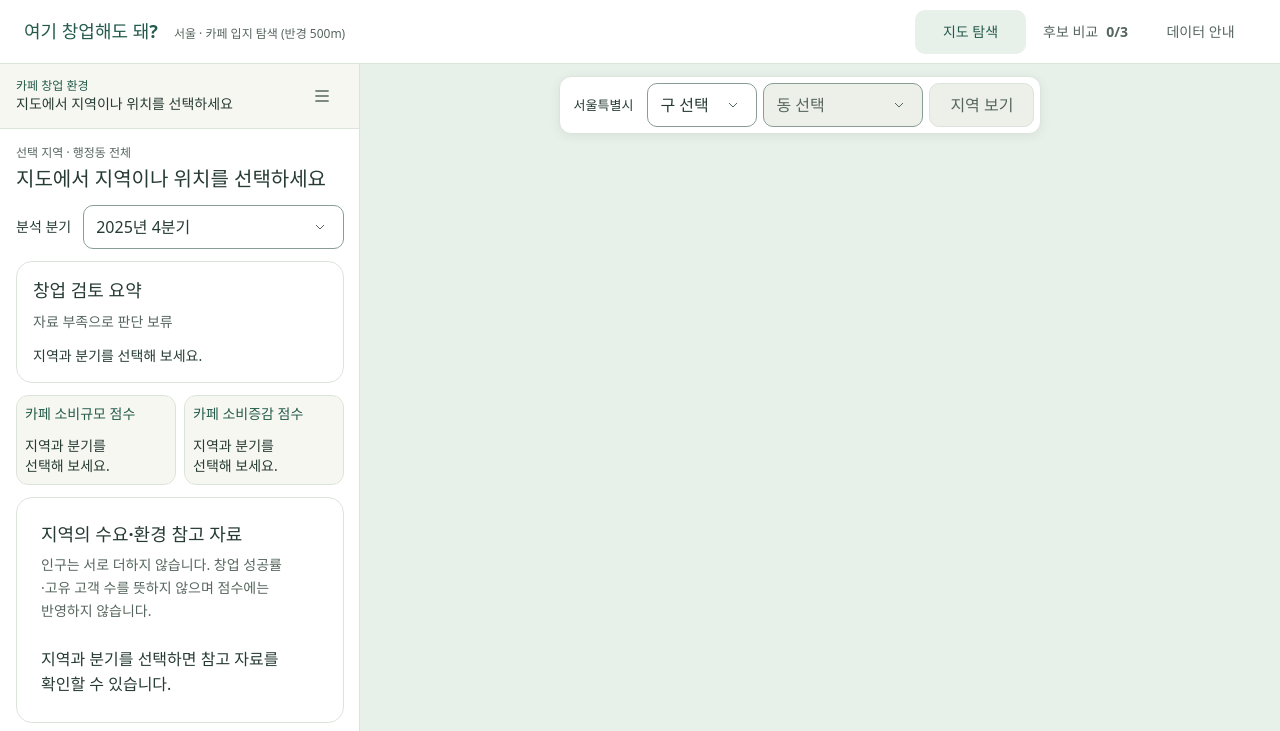
Test: provides cafe-only manual requests even when the catalog contains other industries
Expected: the dropdown labelled "업종" is not shown
Select "종로구" in the dropdown named "자치구" at x=702, y=105, box [647,83,757,127]
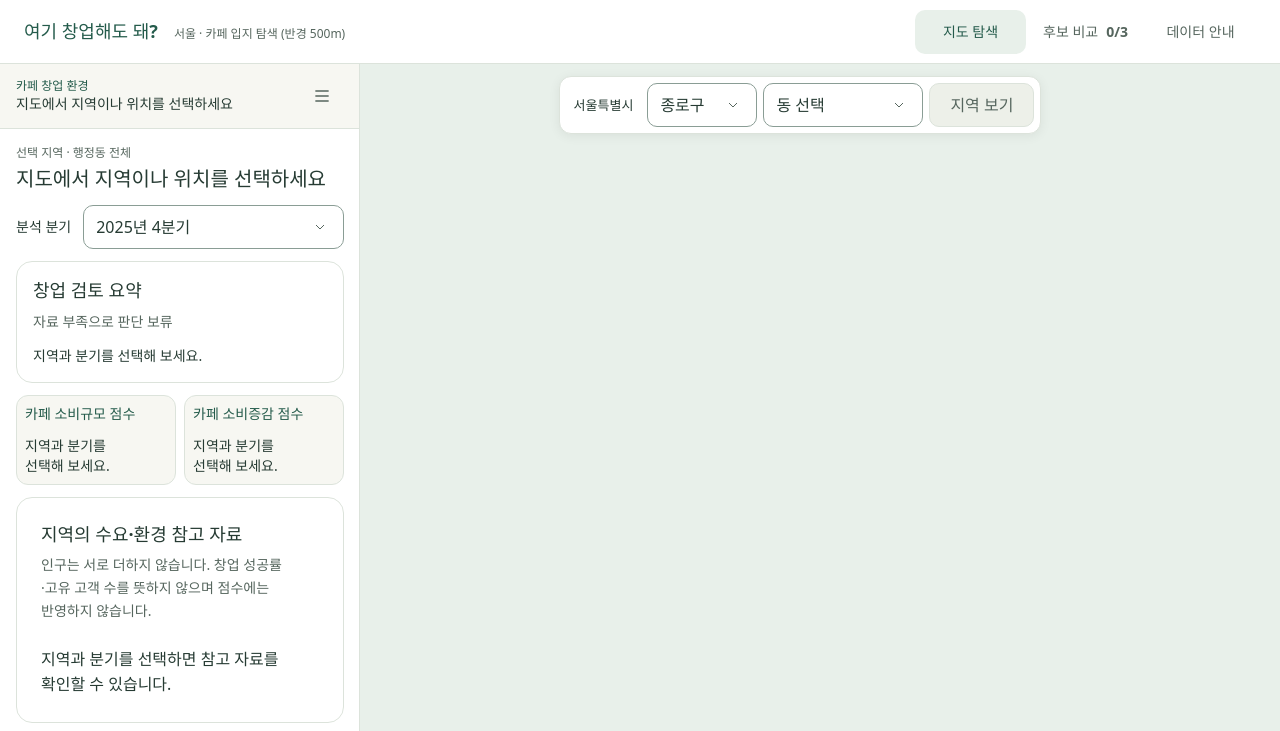
Select "청운효자동" in the dropdown named "행정동" at x=843, y=105, box [763,83,923,127]
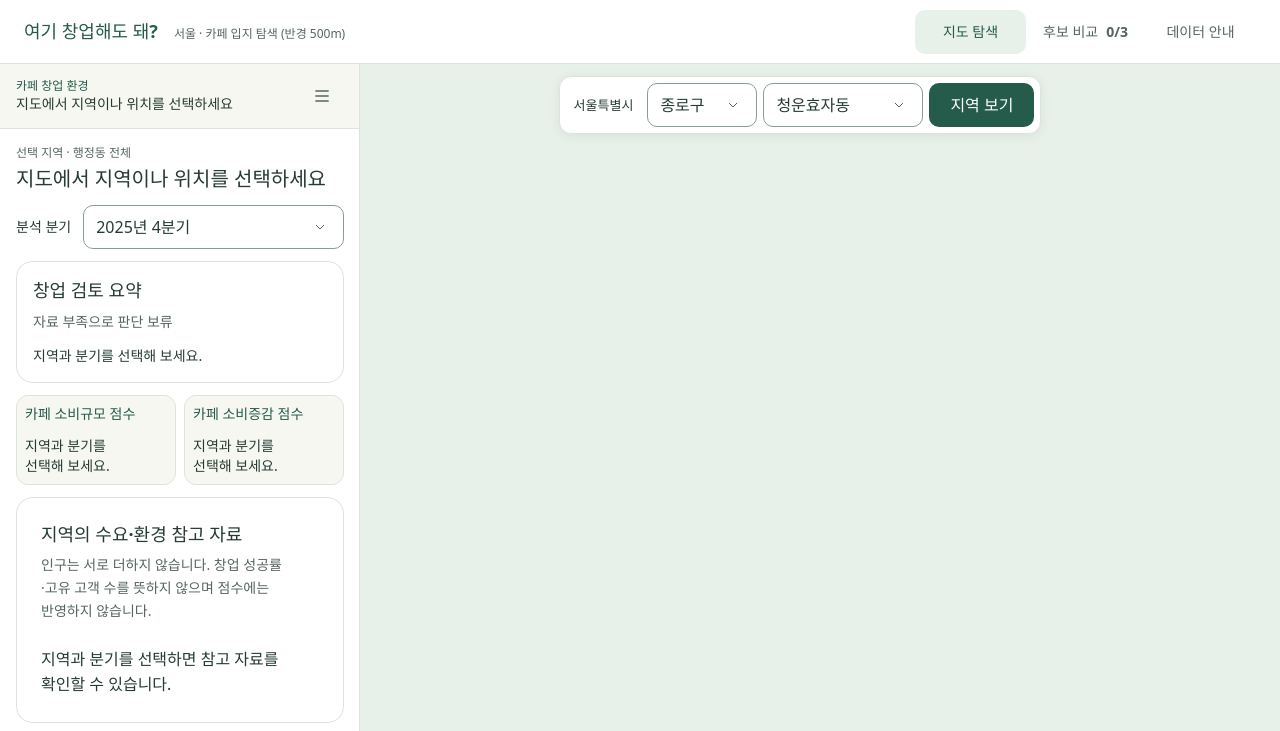
Click the button "지역 보기".
click(982, 105)  # box [929,83,1034,127]
(page scrolled)
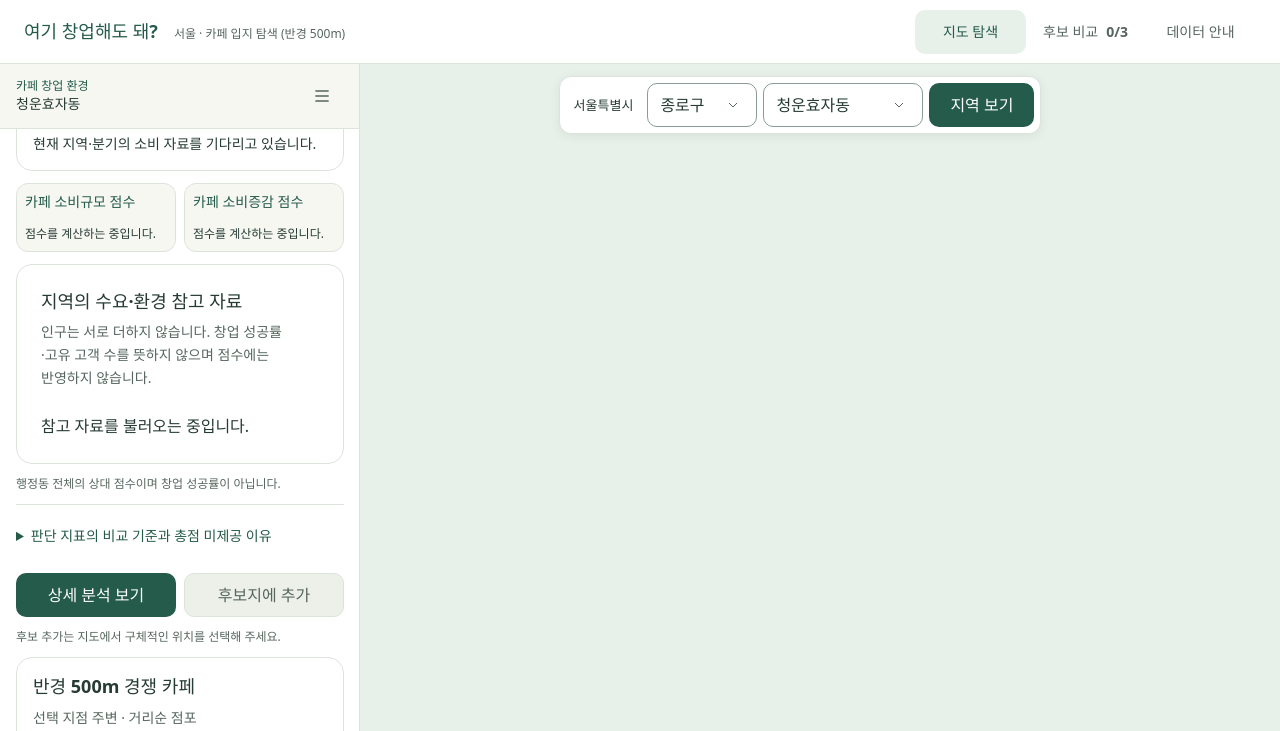
Click the button "상세 분석 보기".
click(96, 595)  # box [16,573,176,617]
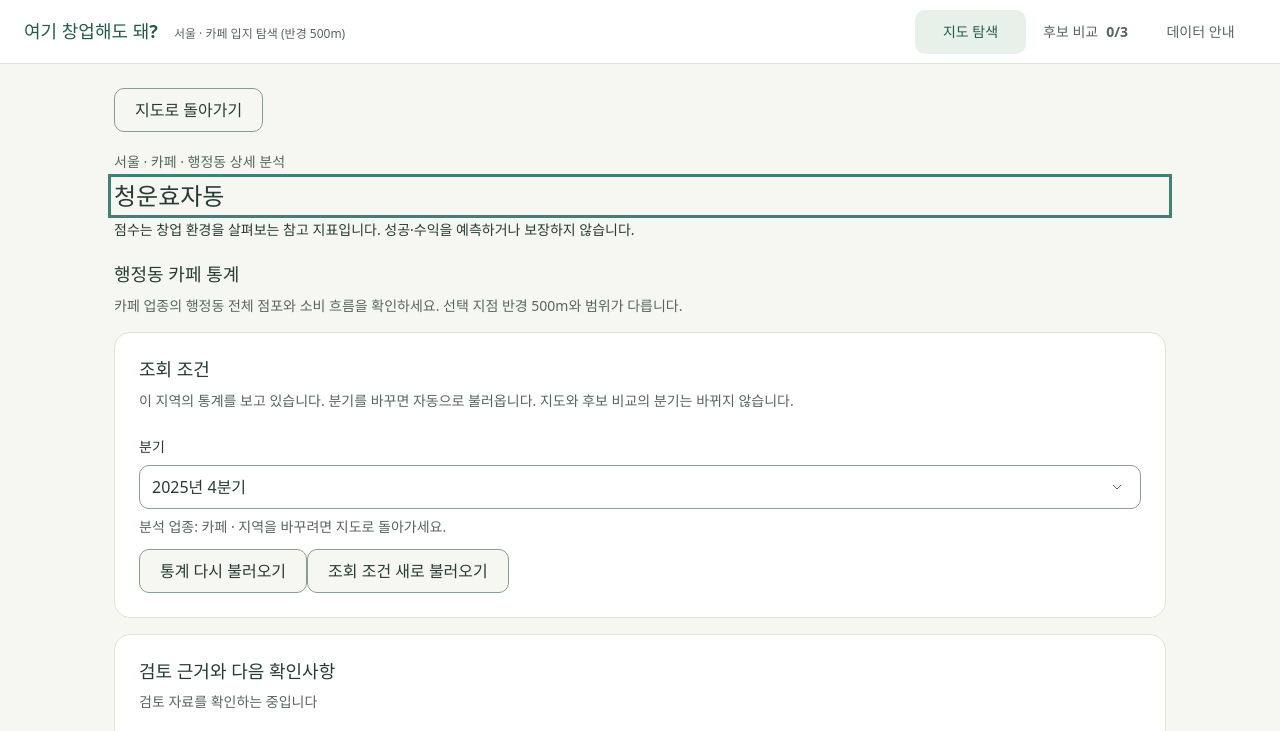
Select "2025년 1분기" in the dropdown labelled "분기" at x=640, y=486, box [139,464,1141,508]
(page scrolled)
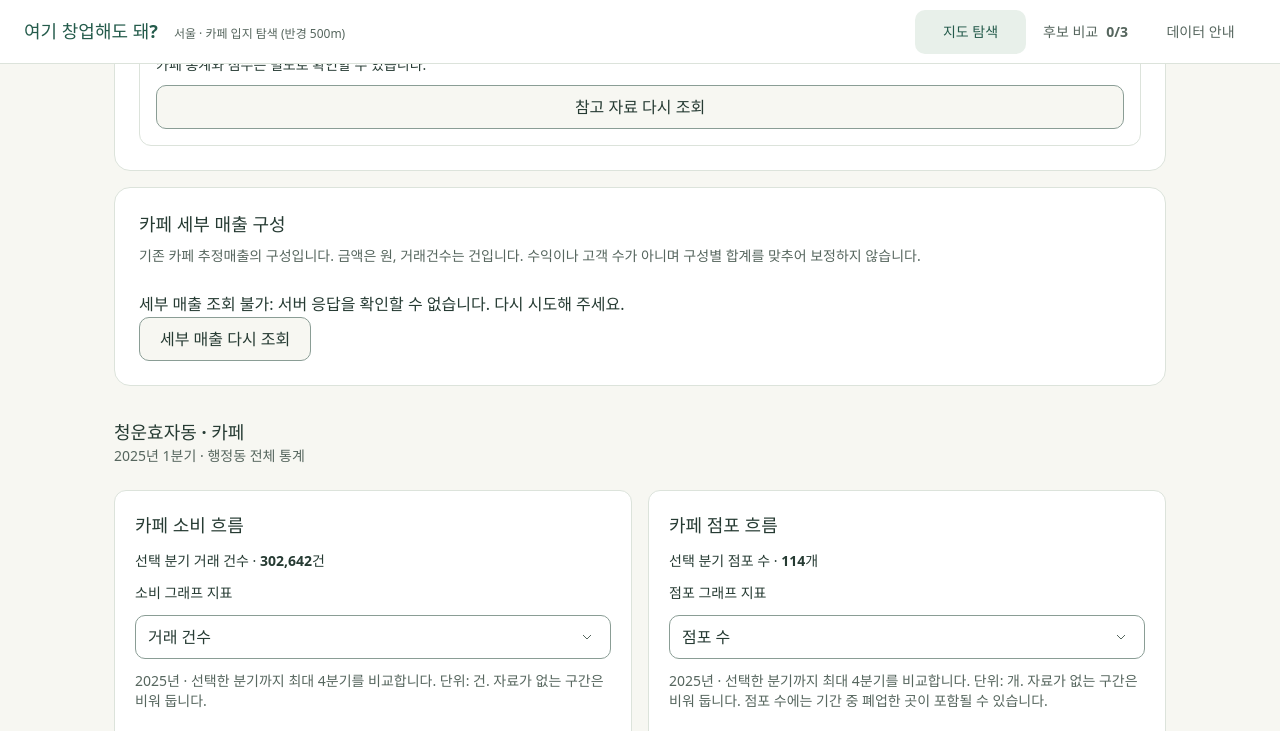
Expected: the heading "청운효자동 · 카페" is shown, [114,420,244,444]
